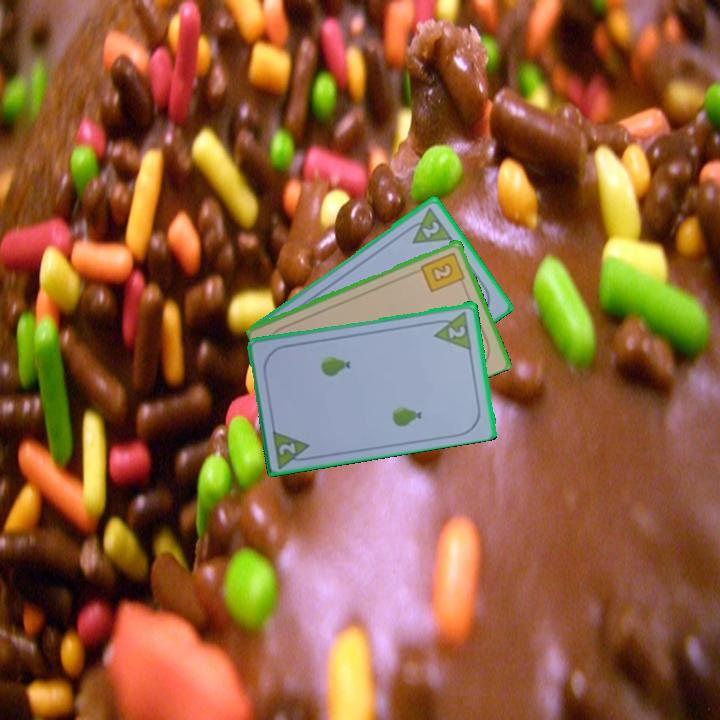2b: (417, 248, 468, 295)
2p: (401, 203, 455, 247), (445, 322, 469, 341), (275, 439, 299, 458)
